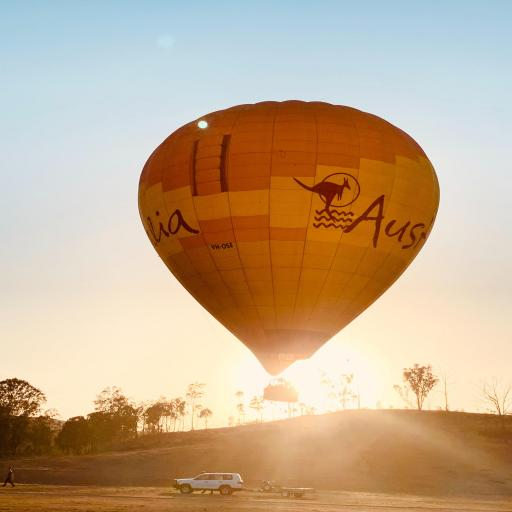hot air ballon: (136, 99, 441, 404)
